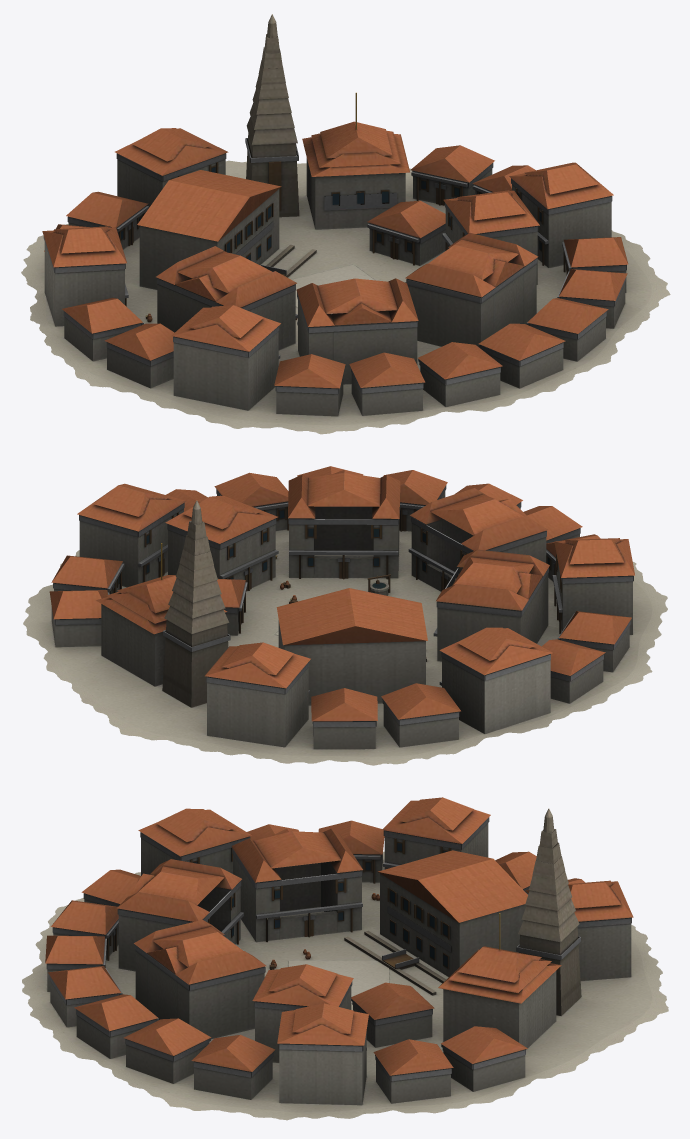
The model's file is gunpowder-town-big-b-monsoon-0b00a611.glb.
3 views of the same model, one above another, from view 1: azimuth 30°, elevation 25°; view 2: azimuth 150°, elevation 25°; view 3: azimuth 270°, elevation 25° (orthographic).
Visible parts, largest first — view 1: LOD0; view 2: LOD0; view 3: LOD0.
Boxes of the visible parts, x1,y1,x2,y2 form: LOD0: [21, 14, 670, 434]; LOD0: [23, 466, 667, 765]; LOD0: [22, 797, 668, 1120].
Size of what is drawn, in the model's own units: 7.97 by 2.6 by 7.96.
3 materials, 3 textured.
